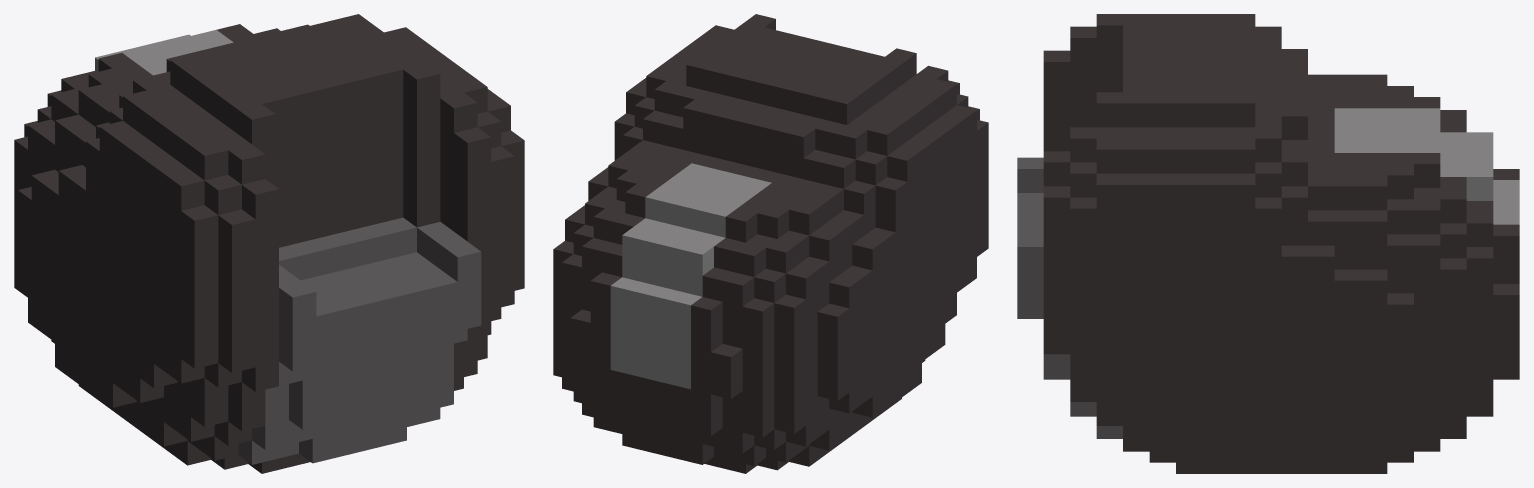
Rendered from gorilla__body.glb.
3 views of the same model, side by side, from view 1: azimuth 30°, elevation 25°; view 2: azimuth 150°, elevation 25°; view 3: azimuth 270°, elevation 25° (orthographic). The views are drawn at different scales.
Parts seen in each view (by area): view 1: gorilla__body; view 2: gorilla__body; view 3: gorilla__body.
Part boxes in pixels (x1,y1,x2,y2): gorilla__body: (14,14,524,473); gorilla__body: (553,14,988,473); gorilla__body: (1017,14,1519,473).
Size of the model in its own units: 1.4 by 1.5 by 1.9.
1 material, 1 textured.
